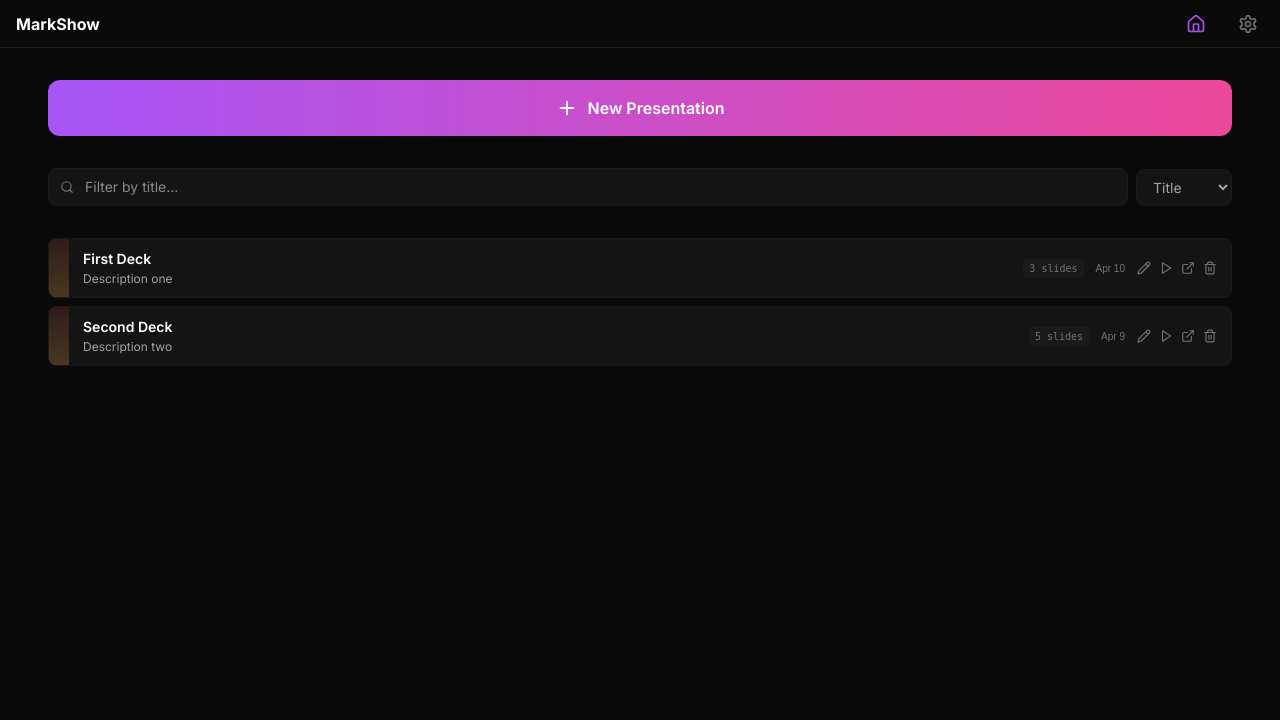
Test: HomePage › shows delete confirmation dialog
The image size is (1280, 720).
Step 1. Click the button named "Delete First Deck" → (1210, 268), box [1203,261,1217,275]
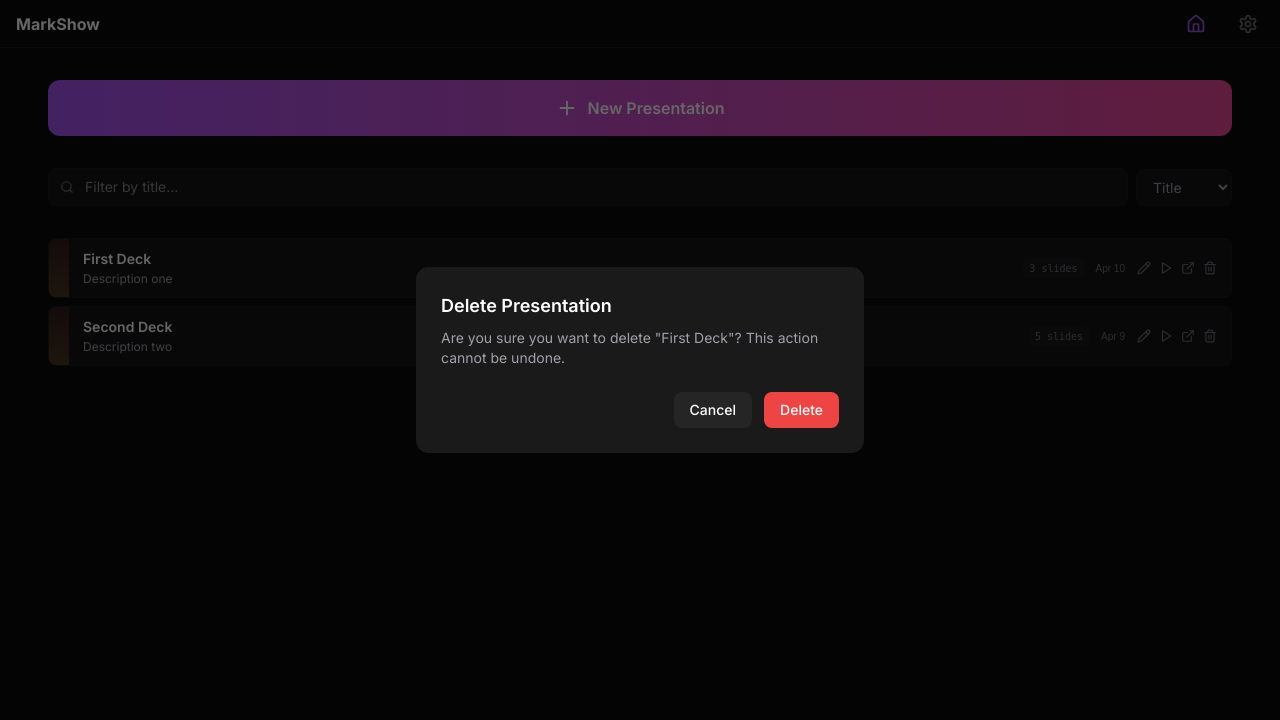
expect the text "Are you sure you want to delete \"First Deck\"" is shown: met, box [441,329,818,366]
